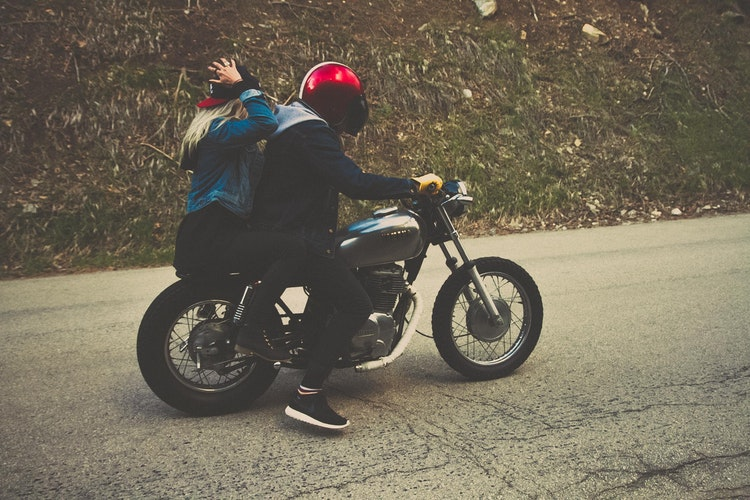helmet: (293, 58, 374, 147)
